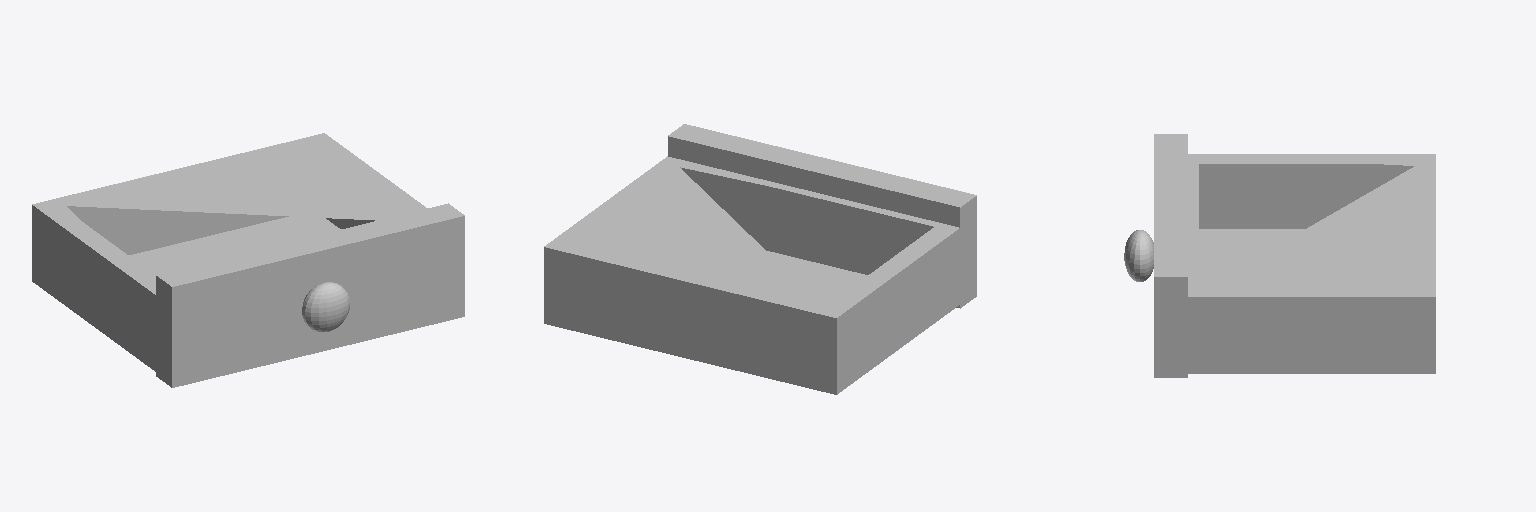
The model's file is Cajon.obj.
3 renders of one model, left to right at view 1: azimuth 30°, elevation 25°; view 2: azimuth 150°, elevation 25°; view 3: azimuth 270°, elevation 25°, orthographic.
Parts seen in each view (by area): view 1: Cajonera_Cajon_pCube16, Cajonera_Cajon_pCube4, pSphere5; view 2: Cajonera_Cajon_pCube16, Cajonera_Cajon_pCube4; view 3: Cajonera_Cajon_pCube16, Cajonera_Cajon_pCube4, pSphere5.
Part boxes in pixels (bbox=[...]): Cajonera_Cajon_pCube16: bbox=[32, 133, 427, 371]; Cajonera_Cajon_pCube4: bbox=[156, 203, 464, 387]; pSphere5: bbox=[302, 282, 349, 331]; Cajonera_Cajon_pCube16: bbox=[544, 156, 960, 394]; Cajonera_Cajon_pCube4: bbox=[668, 124, 976, 308]; Cajonera_Cajon_pCube16: bbox=[1187, 154, 1435, 373]; Cajonera_Cajon_pCube4: bbox=[1154, 134, 1187, 377]; pSphere5: bbox=[1124, 230, 1153, 281].
Size of the model in its own units: 0.7179 by 0.2366 by 0.661.